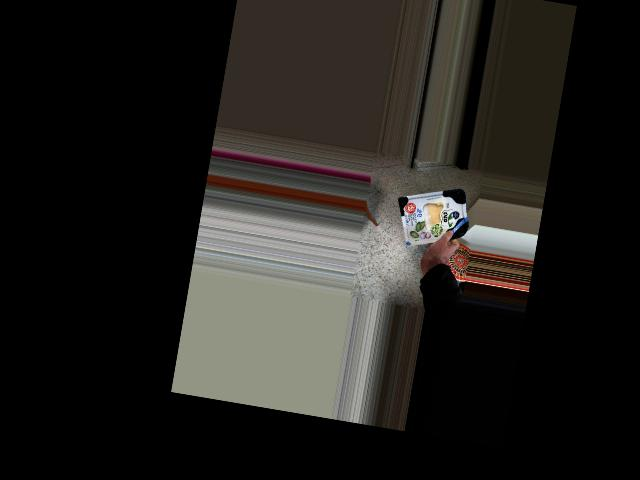cheese: (391, 178, 475, 253)
